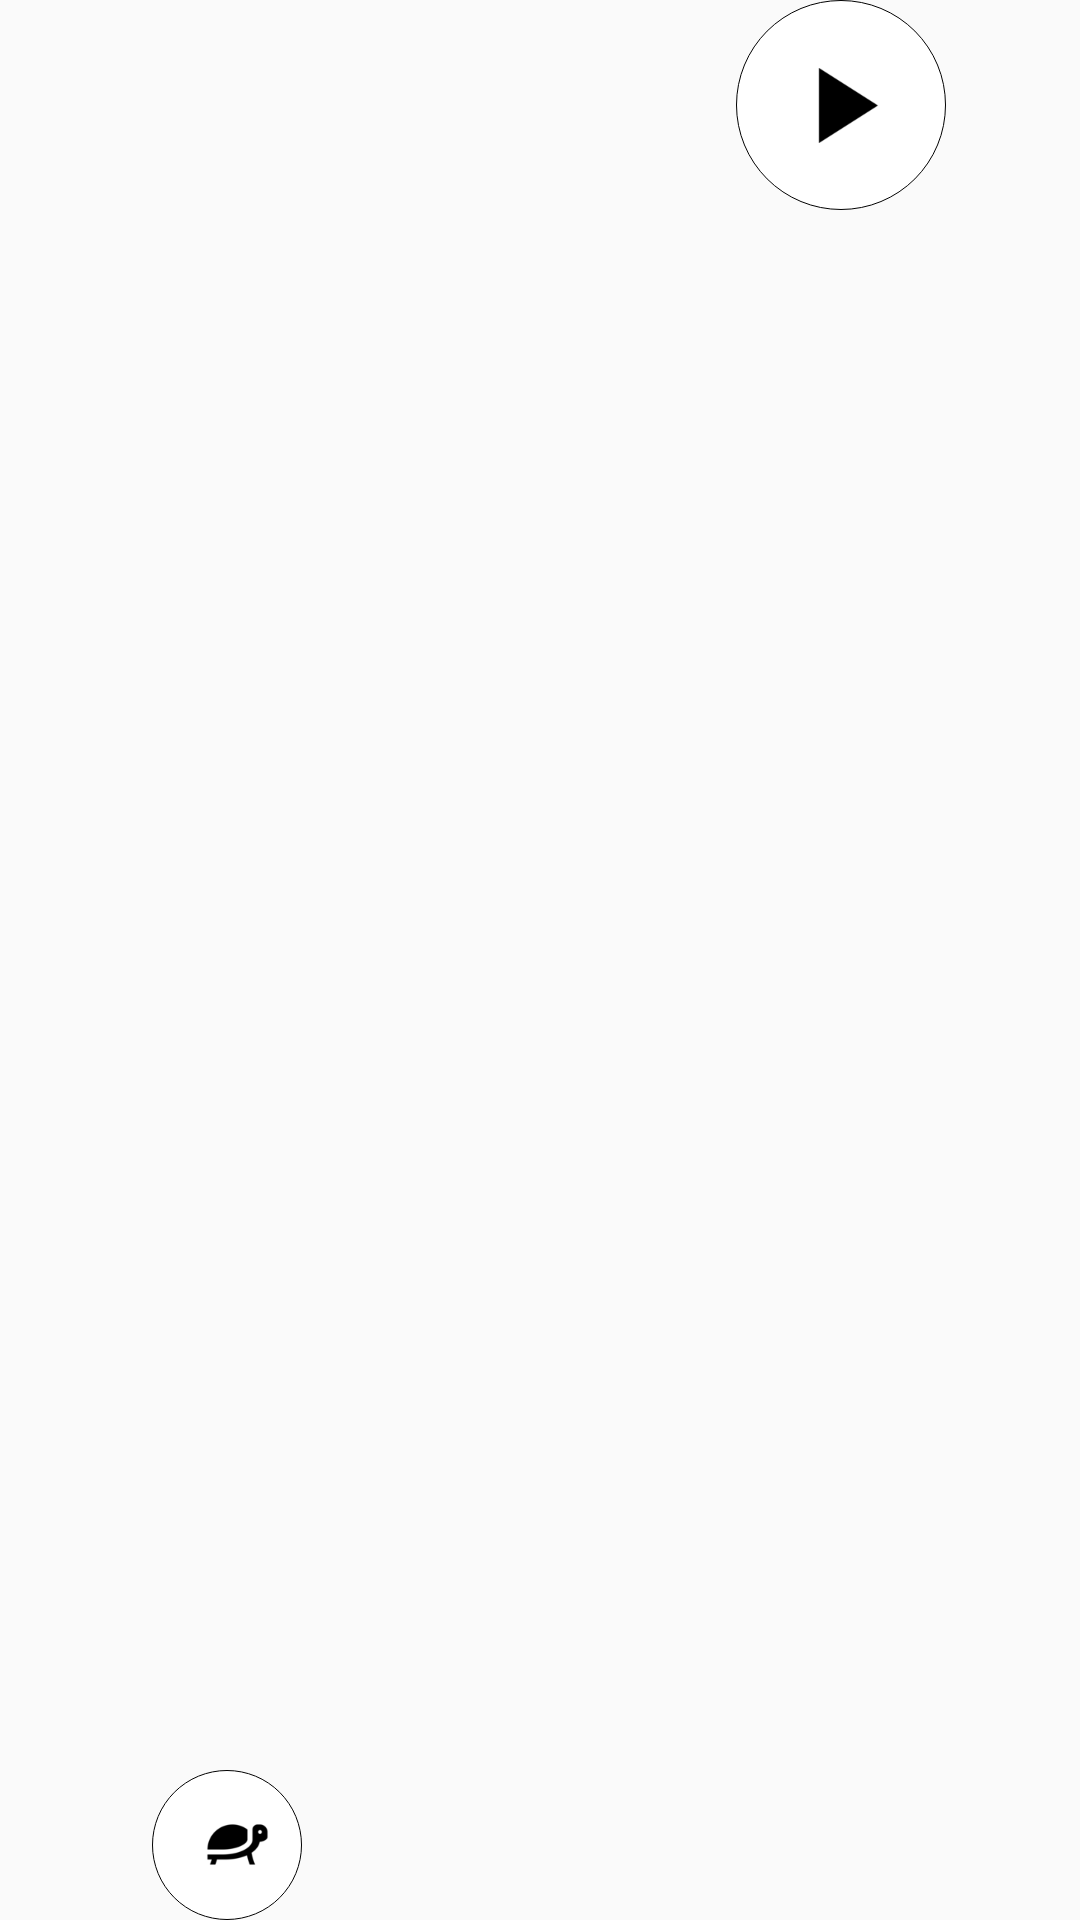

Screen size 1080*1920. Icon name, then its box in pixels as (x1, y1, x2, y2):
play sound: (736, 0, 946, 210)
slow play: (152, 1770, 302, 1920)
